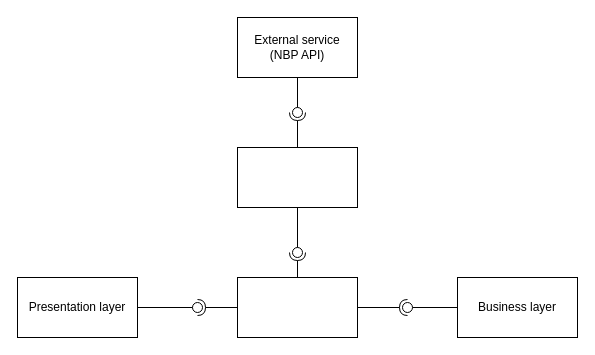
The diagram is 595 pixels wide and 355 high, and some of its shapes have lost their labels. Here are the shapes that lost their labels. From the top down, the box of each, then its label:
(236, 146, 358, 208): Integration layer
(236, 276, 358, 338): Interaction layer
